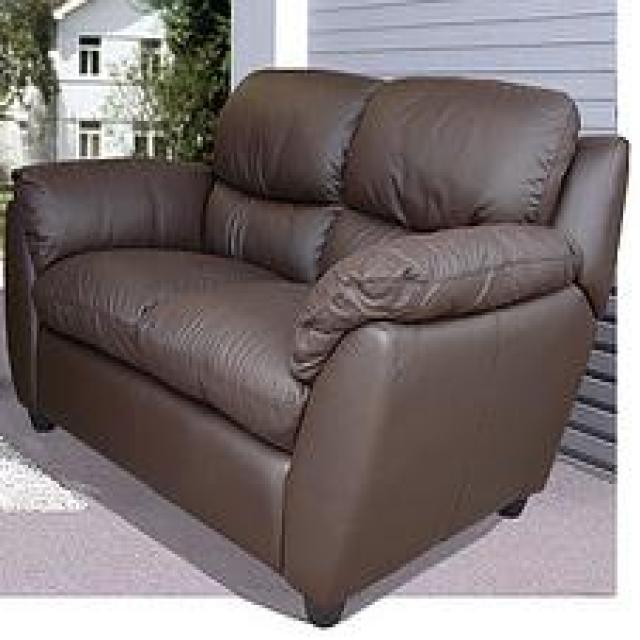sofa: (7, 54, 630, 630)
